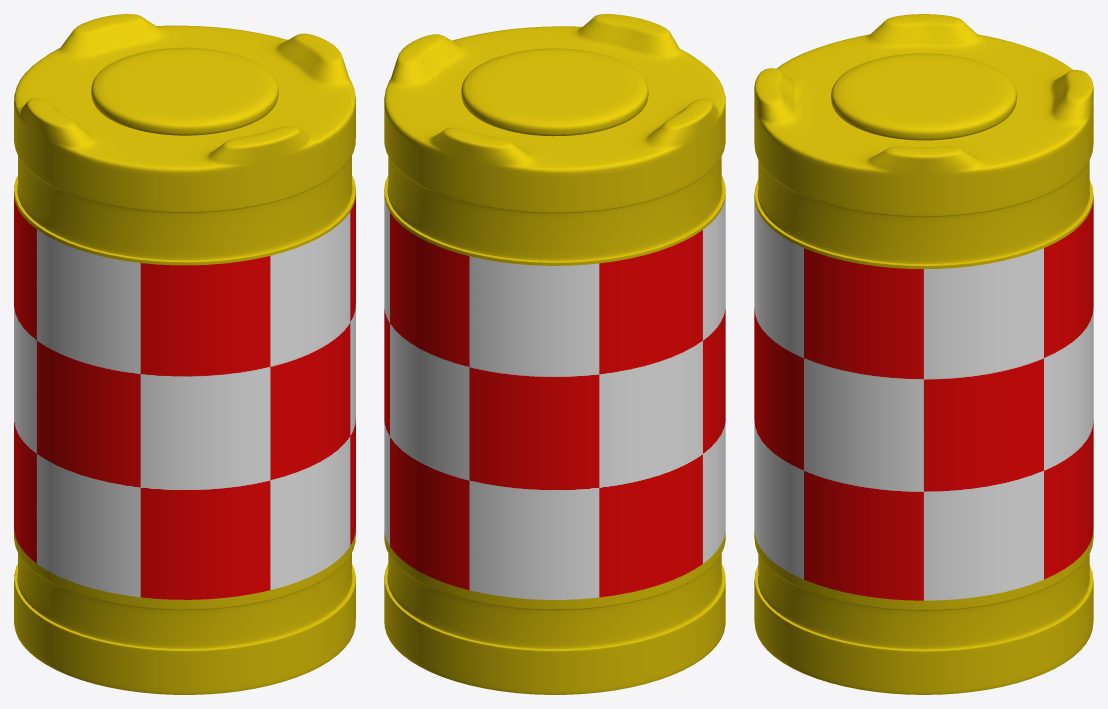
The model's file is water_tong.FBX.
The picture shows the model from 3 angles, left to right: view 1: azimuth 30°, elevation 25°; view 2: azimuth 150°, elevation 25°; view 3: azimuth 270°, elevation 25°; orthographic projection.
Visible parts, largest first — view 1: Anti-collision bucket; view 2: Anti-collision bucket; view 3: Anti-collision bucket.
Part boxes in pixels (x1=…): Anti-collision bucket: x1=14, y1=14, x2=355, y2=694; Anti-collision bucket: x1=384, y1=14, x2=725, y2=694; Anti-collision bucket: x1=754, y1=14, x2=1093, y2=694.
Bounding box in the file's own units: 0.41 × 0.72 × 0.41.
Materials: 2 (1 with a texture image).
